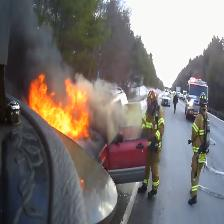fire: (27, 73, 92, 141)
